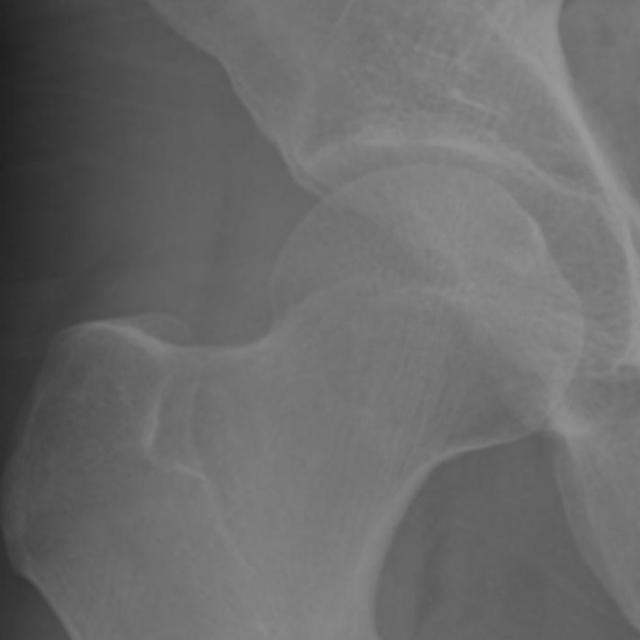Fitted_femural_head: (310, 158, 432, 310)
